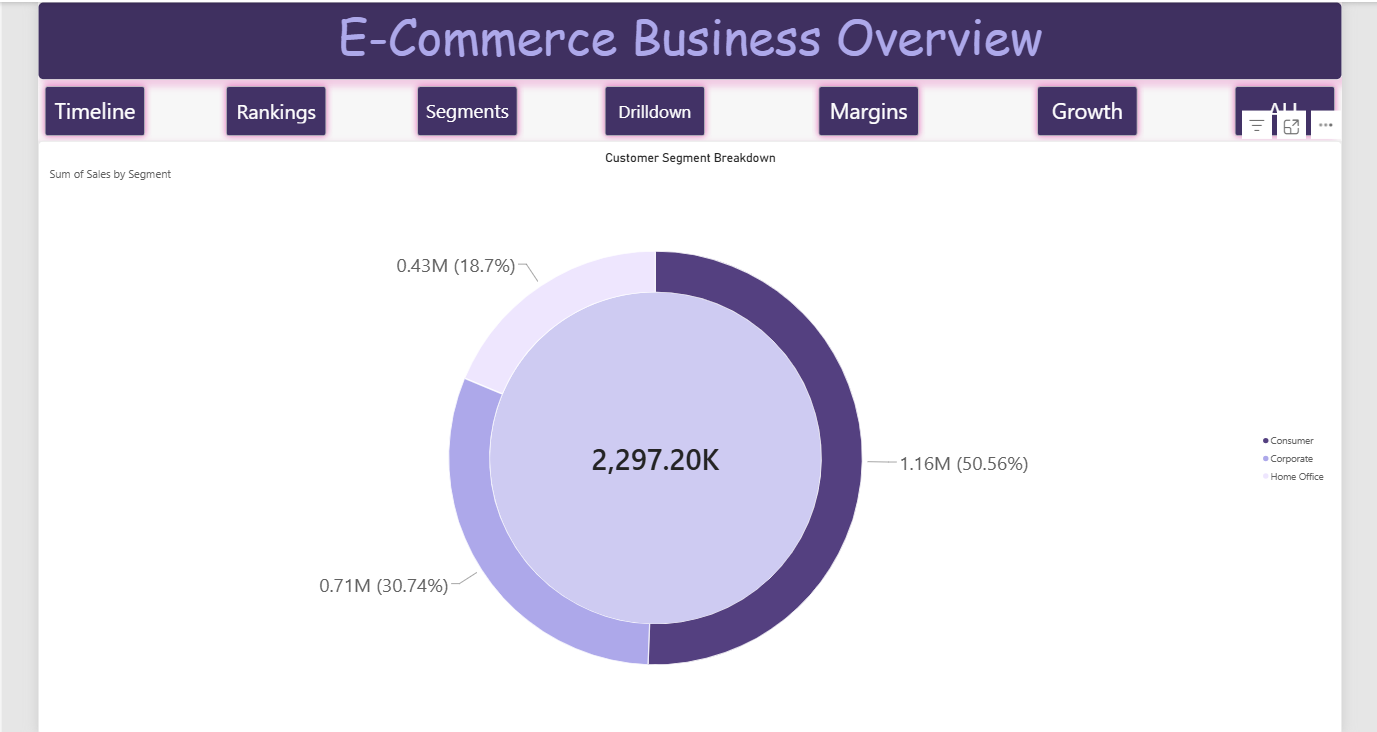

Layout of this report page (visuals, bound fields, positions):
{"tool":"powerbi","page":{"name":"Segments","canvas":[1920,1080],"ordinal":3},"visuals":[{"type":"textbox","title":"E-Commerce Business Overview","box":[0,0,1919.6,114.1],"z":0},{"type":"actionButton","box":[0,113.6,167.6,93.1],"z":1000},{"type":"actionButton","box":[266.3,113.6,167.6,93.1],"z":2000},{"type":"actionButton","box":[549.3,113.6,167.6,93.1],"z":3000},{"type":"actionButton","box":[824.8,113.6,167.6,93.1],"z":4000},{"type":"actionButton","box":[1139.5,113.6,167.6,93.1],"z":5000},{"type":"actionButton","box":[1461.6,113.6,167.6,93.1],"z":6000},{"type":"actionButton","box":[1752.1,113.6,167.6,93.1],"z":7000},{"type":"donutChart","title":"Customer Segment Breakdown","fields":{"Category":["Orders.Segment"],"Y":["Sum(Orders.Sales)"]},"box":[0,204.3,1919.6,876.1],"z":8000}]}

Visuals, with their boxes on the page's 1920x1080 design canvas (x1, y1, x2, y2). These are canvas units, not pixel positions in the 1377x732 screenshot, which may show the page scaled, cropped or inside an application window:
"E-Commerce Business Overview" textbox: (left=0, top=0, right=1920, bottom=114)
actionButton: (left=0, top=114, right=168, bottom=207)
actionButton: (left=266, top=114, right=434, bottom=207)
actionButton: (left=549, top=114, right=717, bottom=207)
actionButton: (left=825, top=114, right=992, bottom=207)
actionButton: (left=1140, top=114, right=1307, bottom=207)
actionButton: (left=1462, top=114, right=1629, bottom=207)
actionButton: (left=1752, top=114, right=1920, bottom=207)
"Customer Segment Breakdown" donutChart: (left=0, top=204, right=1920, bottom=1080)
